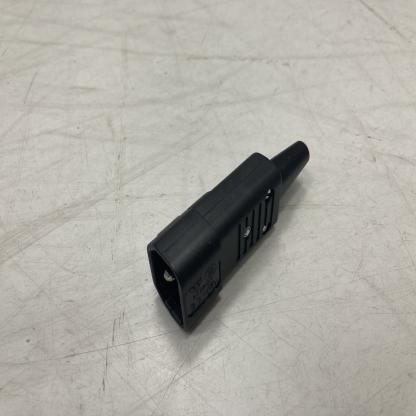SP0000004: (90, 62, 344, 361)
